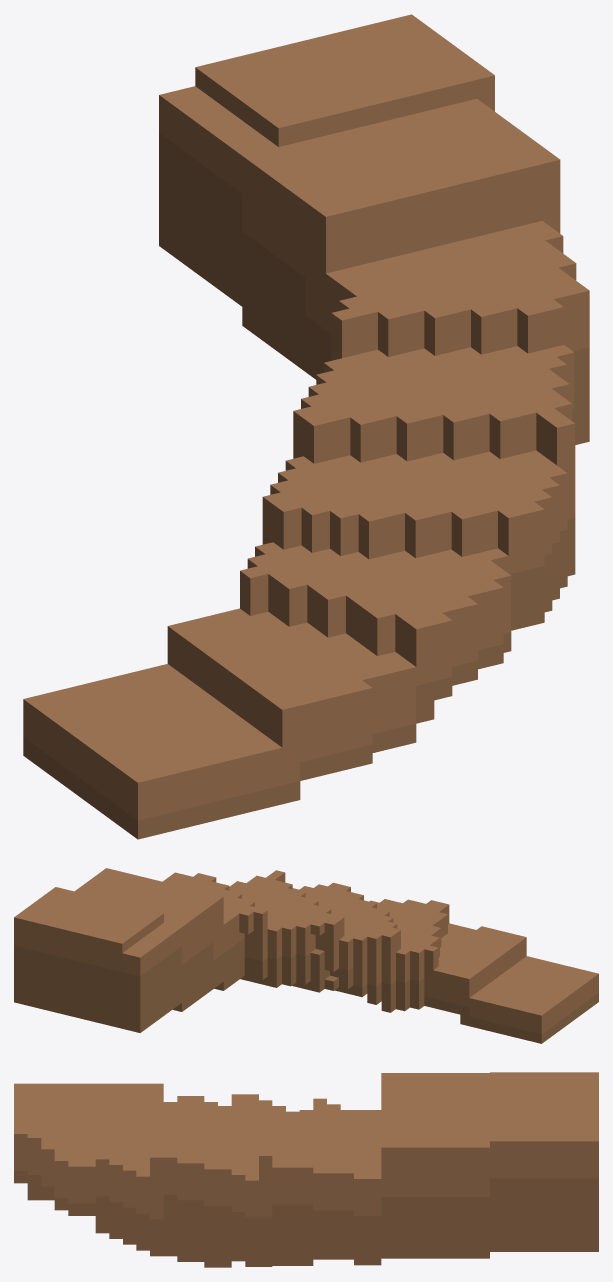
The model's file is Pillar_lava_obj-5.obj.
The picture shows the model from 3 angles, top to bottom: view 1: azimuth 30°, elevation 25°; view 2: azimuth 150°, elevation 25°; view 3: azimuth 270°, elevation 25°; orthographic projection. The views are drawn at different scales.
Bounding box in the file's own units: 4 × 1.7 × 4.3.
Materials: 1 (1 with a texture image).
